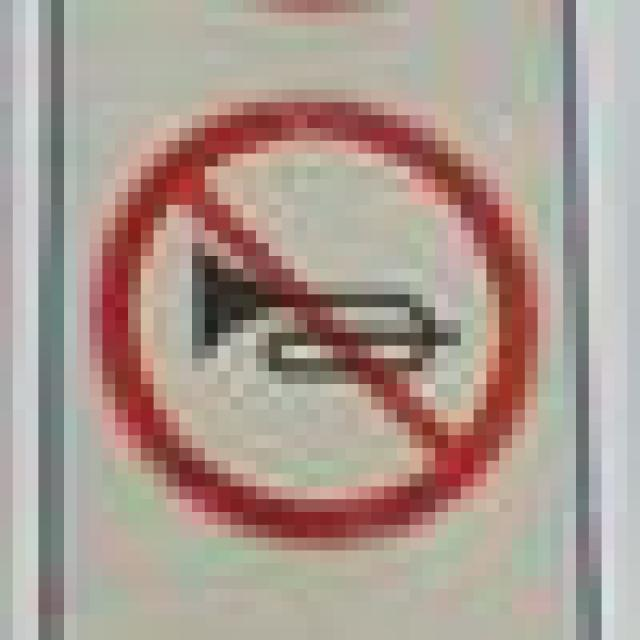HORN_PROHIBITED: (77, 90, 550, 538)
